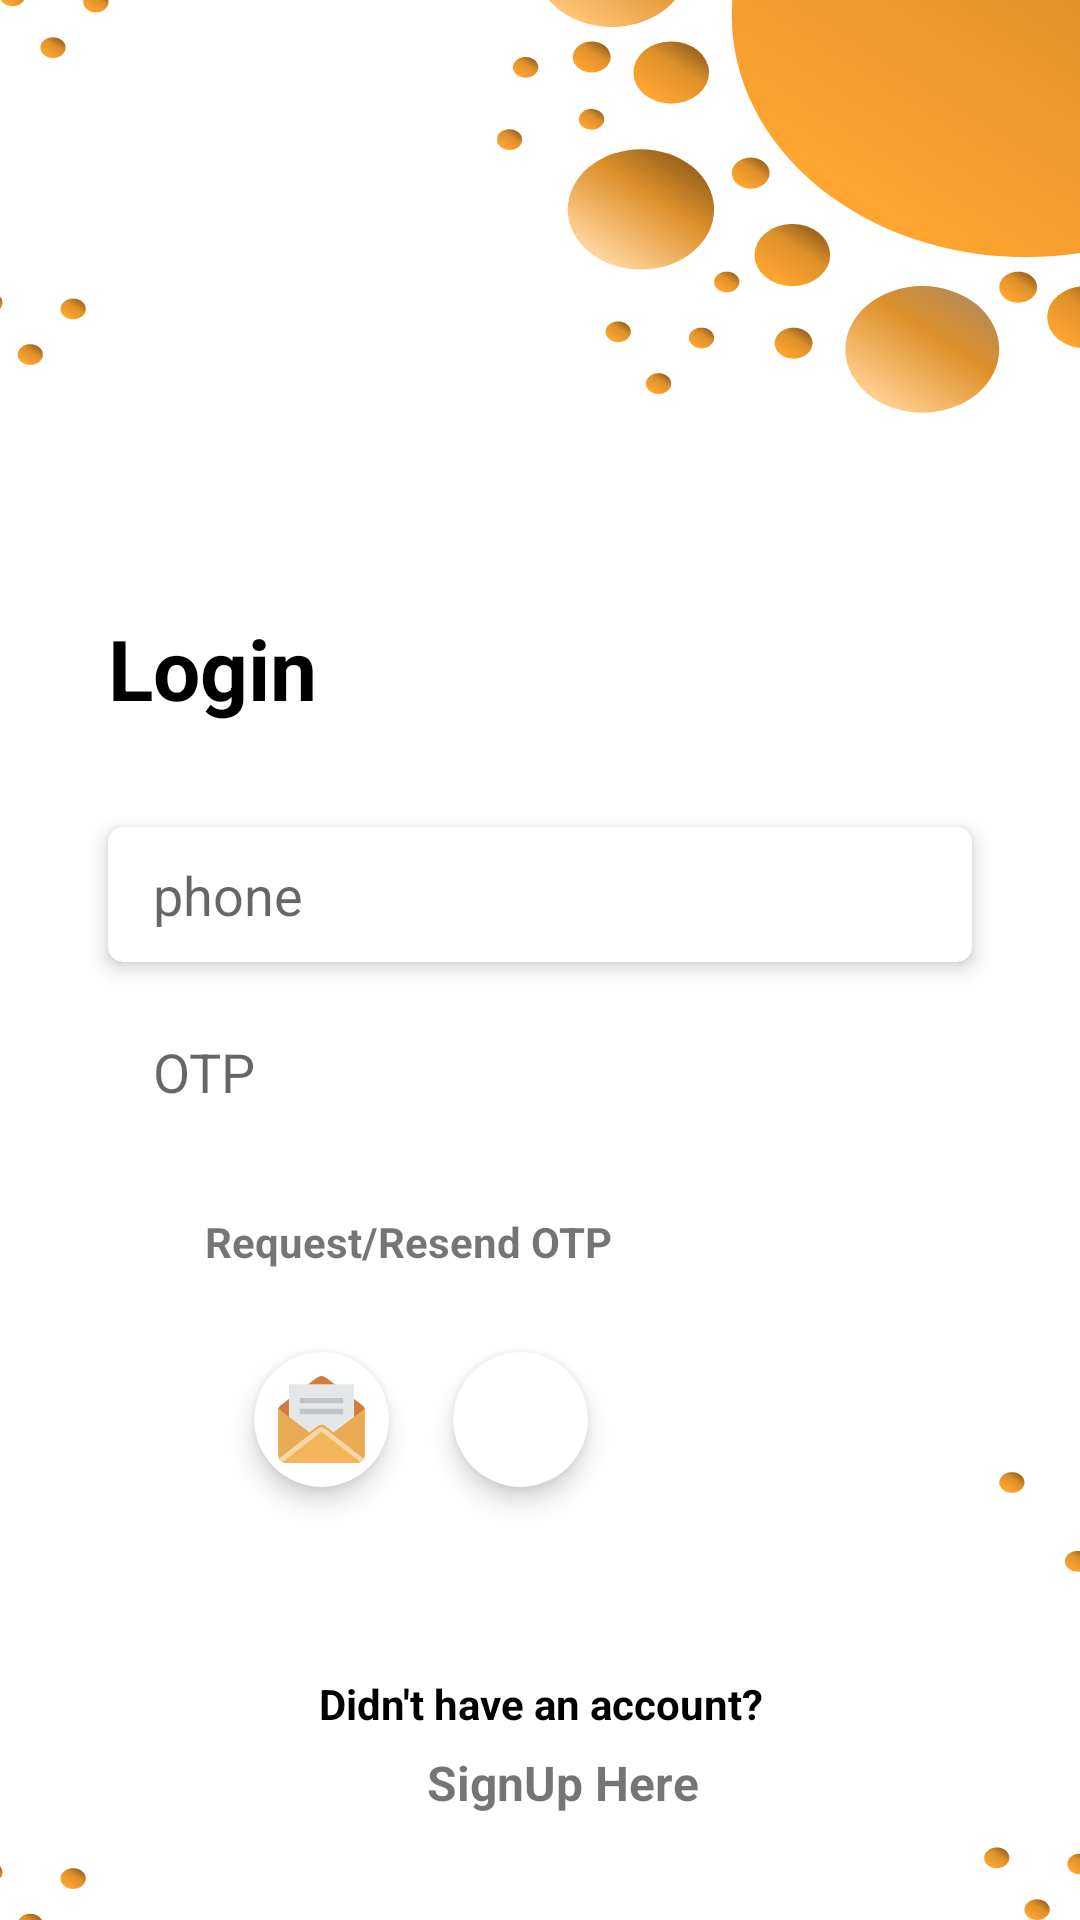

Where to tap for icons on this 1080*1920 app screen, as (x,y):
email: (332,1419)
